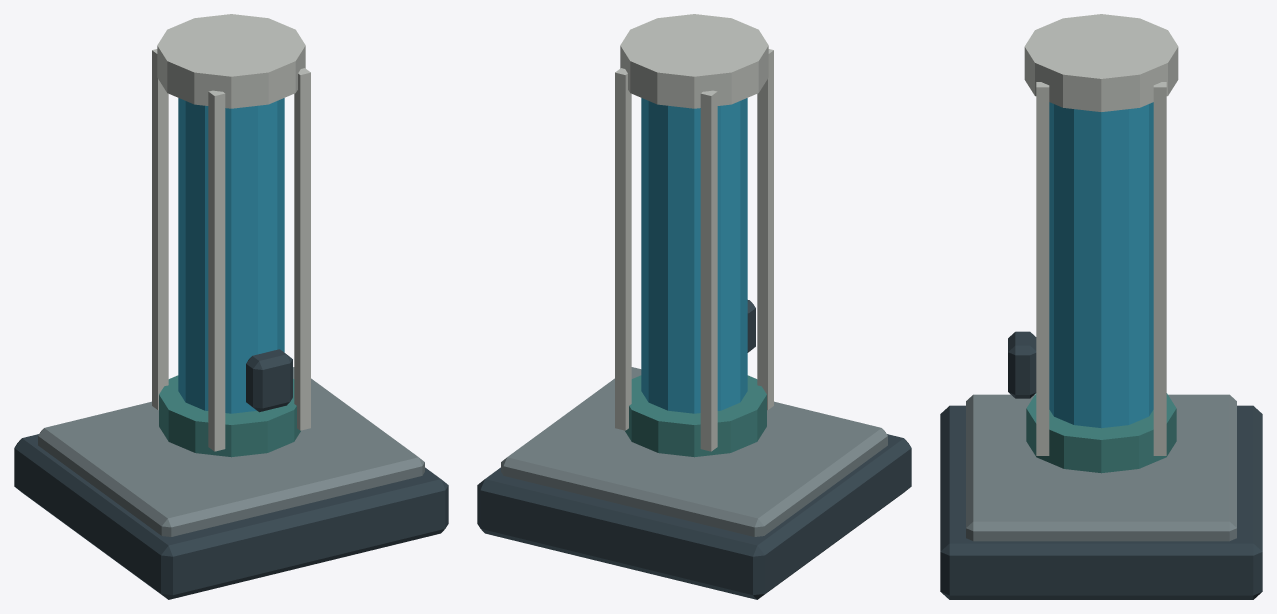
Rendered from phw_tank_single.glb.
The picture shows the model from 3 angles, left to right: view 1: azimuth 30°, elevation 25°; view 2: azimuth 150°, elevation 25°; view 3: azimuth 270°, elevation 25°; orthographic projection. The views are drawn at different scales.
Parts seen in each view (by area): view 1: body, water; view 2: body, water; view 3: body, water.
Boxes of the visible parts, x1,y1,x2,y2 form: body: (14,14,448,599); water: (178,98,284,413); body: (477,14,911,599); water: (641,98,747,413); body: (940,14,1262,599); water: (1049,102,1153,428).
Bounding box in the file's own units: 0.94 × 1.46 × 0.88.
